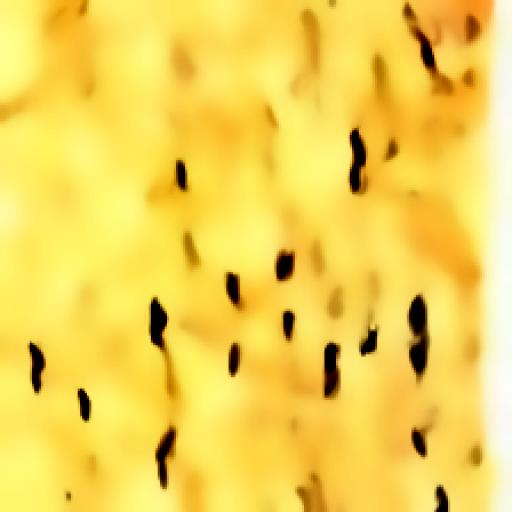egg: (390, 283, 442, 341), (318, 341, 348, 416), (403, 343, 443, 394), (148, 285, 176, 355), (267, 246, 306, 291), (411, 38, 447, 86), (26, 330, 48, 403), (218, 337, 248, 385), (221, 269, 252, 315), (150, 422, 182, 460), (75, 384, 97, 434), (269, 310, 301, 344), (172, 159, 202, 195), (405, 431, 441, 459), (346, 130, 372, 166), (350, 165, 368, 215), (432, 481, 459, 512), (356, 327, 378, 361), (156, 462, 174, 497)
